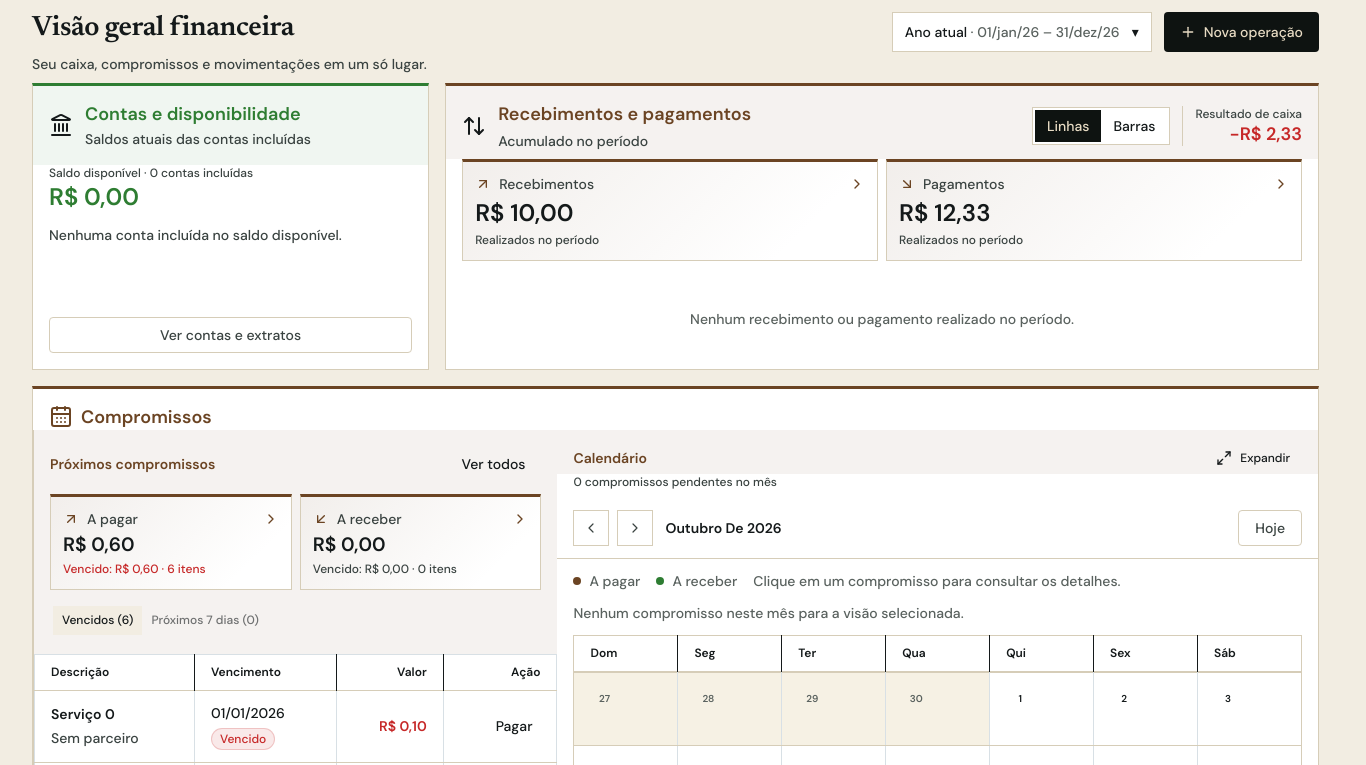
Scenario: Visão geral — grid operacional › soma vencidos além das cinco linhas visíveis e usa resultado líquido da API
Check: the text "Vencido: R$ 0,60 · 6 itens" is shown, box [63,561,206,577]
Check: the text "-R$ 2,33" is shown, box [1230,122,1302,146]
Step 1. Press the mouse on the tab "Próximos 7 dias (0)" → (205, 620), box [142,606,268,635]
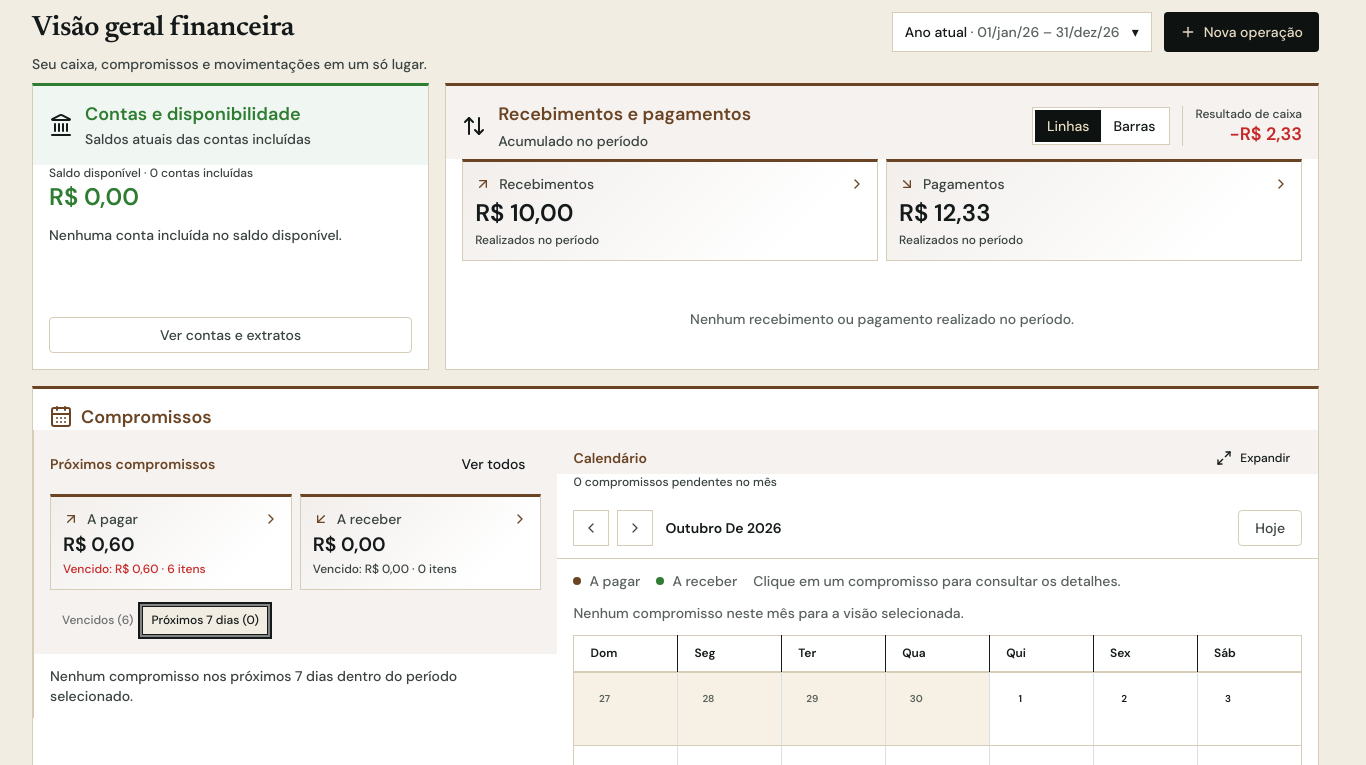
Check: the text "Nenhum compromisso nos próximos 7 dias dentro do período selecionado." is shown, box [50,667,457,705]
